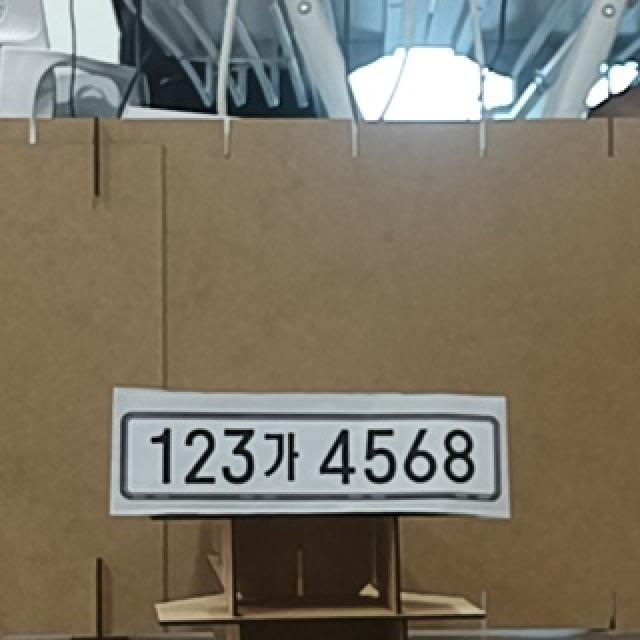normal: (119, 410, 502, 497)
